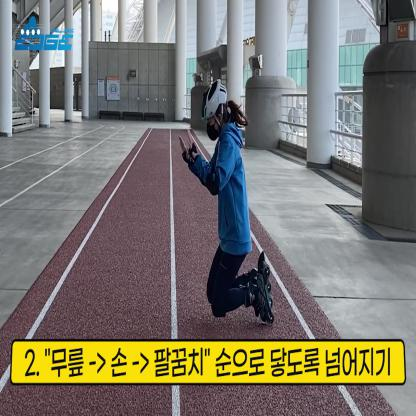Fall_Down: (177, 80, 270, 326)
